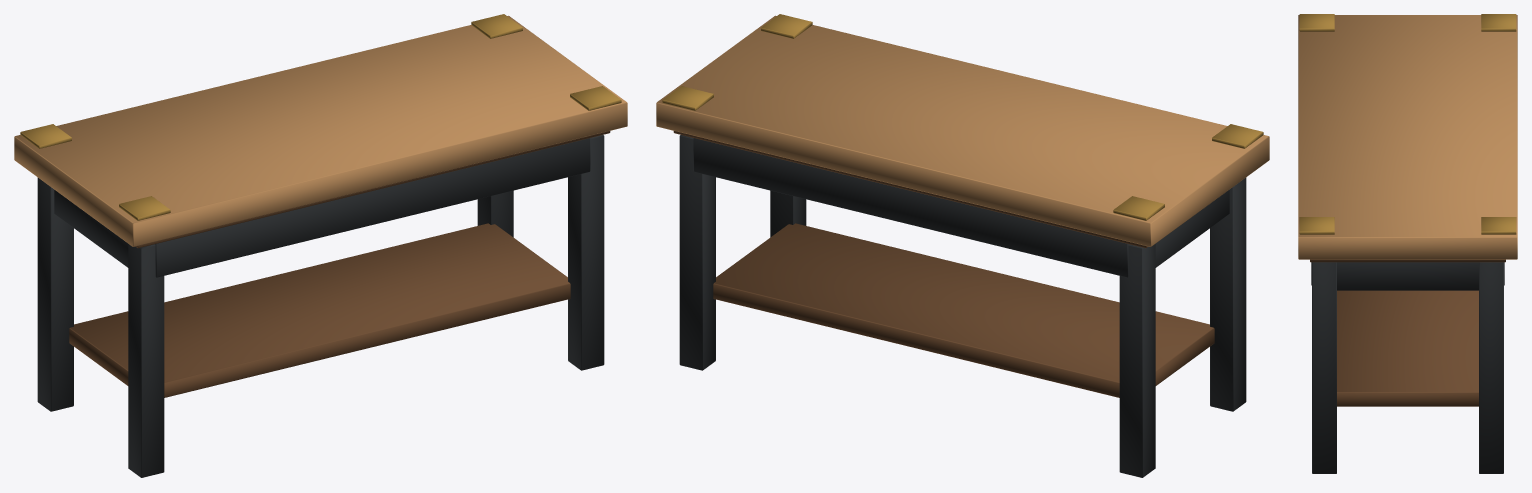
File: asset_065_stockroom_worktable.glb
3 views of the same model, side by side, from view 1: azimuth 30°, elevation 25°; view 2: azimuth 150°, elevation 25°; view 3: azimuth 270°, elevation 25° (orthographic). The views are drawn at different scales.
Parts seen in each view (by area): view 1: MESH_OakWorktop, MESH_LowerShelf, MESH_WorktableLegSet, MESH_WorktableApronFrame, MESH_WorktableCornerCapSet, MESH_WorktopDarkEdge; view 2: MESH_OakWorktop, MESH_LowerShelf, MESH_WorktableLegSet, MESH_WorktableApronFrame, MESH_WorktableCornerCapSet, MESH_WorktopDarkEdge; view 3: MESH_OakWorktop, MESH_LowerShelf, MESH_WorktableLegSet, MESH_WorktableApronFrame, MESH_WorktableCornerCapSet, MESH_WorktopDarkEdge.
Boxes of the visible parts, x1,y1,x2,y2 form: MESH_OakWorktop: [14, 15, 627, 246]; MESH_LowerShelf: [69, 223, 570, 397]; MESH_WorktableLegSet: [37, 135, 604, 477]; MESH_WorktableApronFrame: [54, 138, 590, 277]; MESH_WorktableCornerCapSet: [20, 14, 621, 220]; MESH_WorktopDarkEdge: [136, 131, 610, 248]; MESH_OakWorktop: [656, 15, 1269, 246]; MESH_LowerShelf: [713, 223, 1214, 397]; MESH_WorktableLegSet: [679, 135, 1246, 477]; MESH_WorktableApronFrame: [693, 138, 1229, 277]; MESH_WorktableCornerCapSet: [662, 14, 1263, 220]; MESH_WorktopDarkEdge: [673, 131, 1147, 248]; MESH_OakWorktop: [1298, 15, 1517, 259]; MESH_LowerShelf: [1337, 290, 1478, 406]; MESH_WorktableLegSet: [1312, 262, 1503, 473]; MESH_WorktableApronFrame: [1311, 262, 1504, 290]; MESH_WorktableCornerCapSet: [1299, 14, 1516, 234]; MESH_WorktopDarkEdge: [1310, 259, 1505, 262].
Size of the model in its own units: 1.8 by 0.932 by 0.75.
